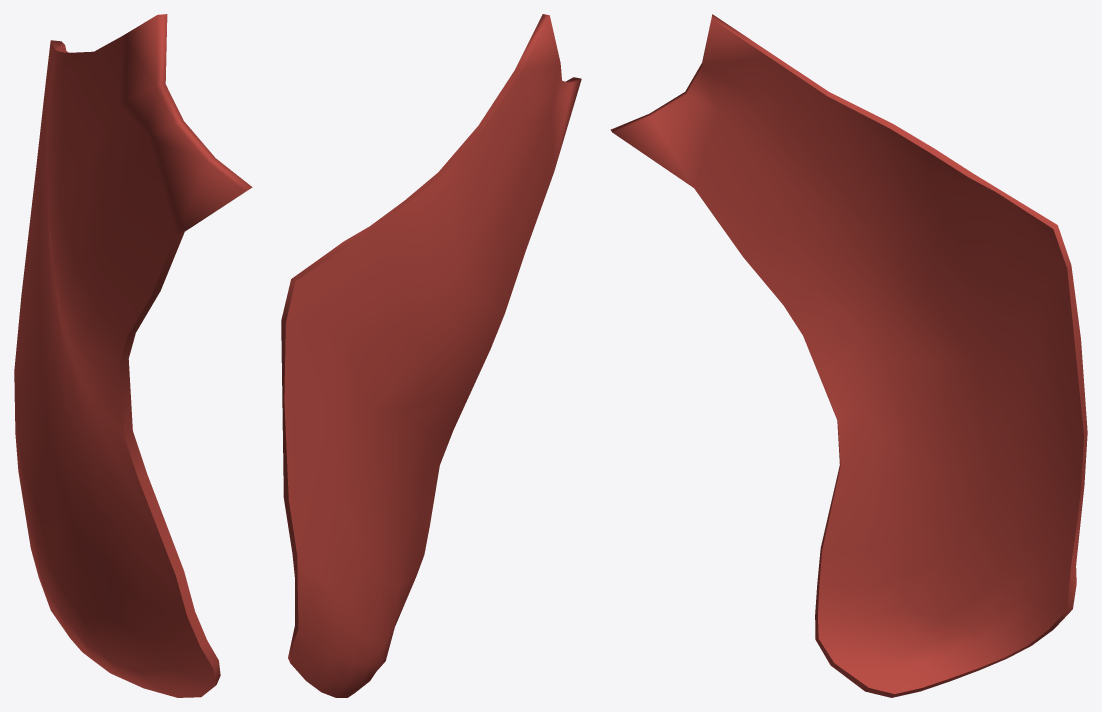
The model's file is musculos-flexor-retinaculum-of-ankle-l.glb.
The picture shows the model from 3 angles, left to right: view 1: azimuth 30°, elevation 25°; view 2: azimuth 150°, elevation 25°; view 3: azimuth 270°, elevation 25°; orthographic projection. The views are drawn at different scales.
Parts seen in each view (by area): view 1: Flexor retinaculum of ankle.l; view 2: Flexor retinaculum of ankle.l; view 3: Flexor retinaculum of ankle.l.
Part boxes in pixels (x1,y1,x2,y2): Flexor retinaculum of ankle.l: [14, 14, 252, 697]; Flexor retinaculum of ankle.l: [281, 14, 581, 697]; Flexor retinaculum of ankle.l: [610, 14, 1087, 697].
Bounding box in the file's own units: 0.016 × 0.0795 × 0.0544.
